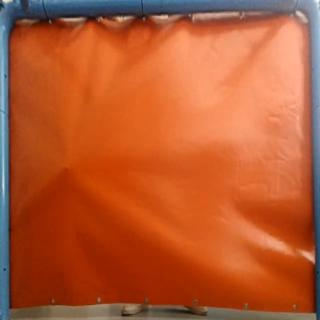Hit-hRxx: (57, 162, 75, 175)
